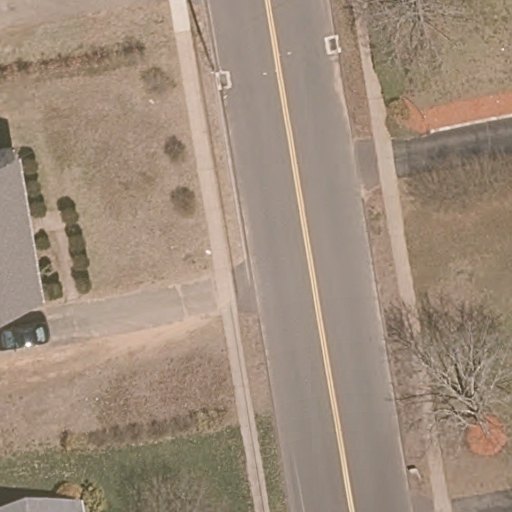DT: (202, 40, 232, 93)
